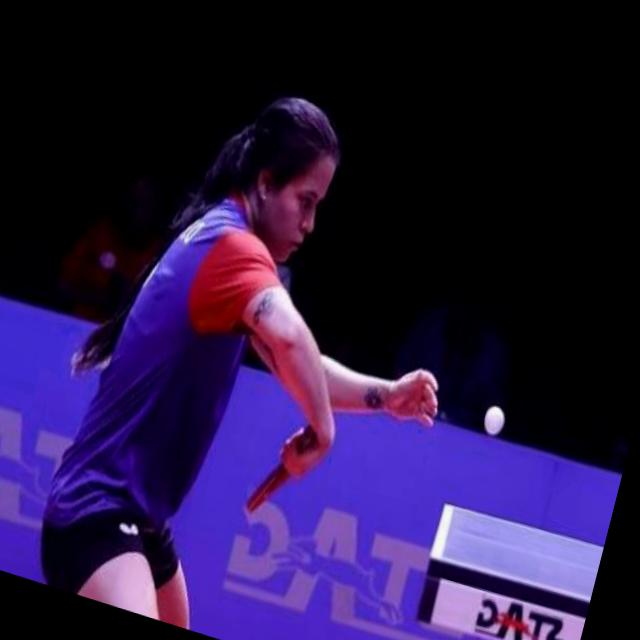TT Racket: (240, 444, 304, 517)
TT Table: (427, 502, 603, 607)
